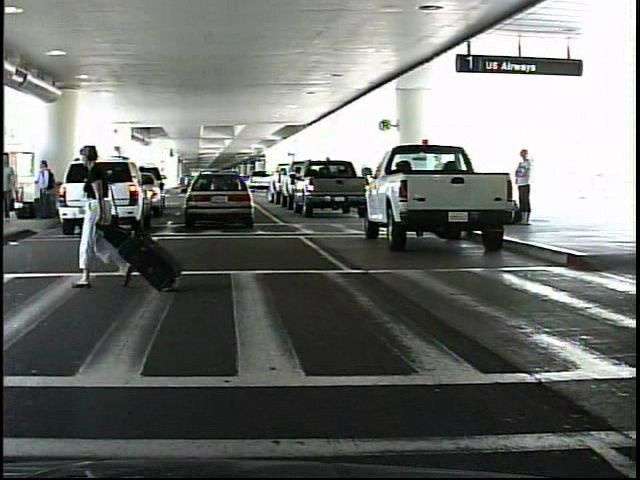person: (71, 143, 142, 292), (501, 151, 539, 227), (34, 158, 55, 221)
